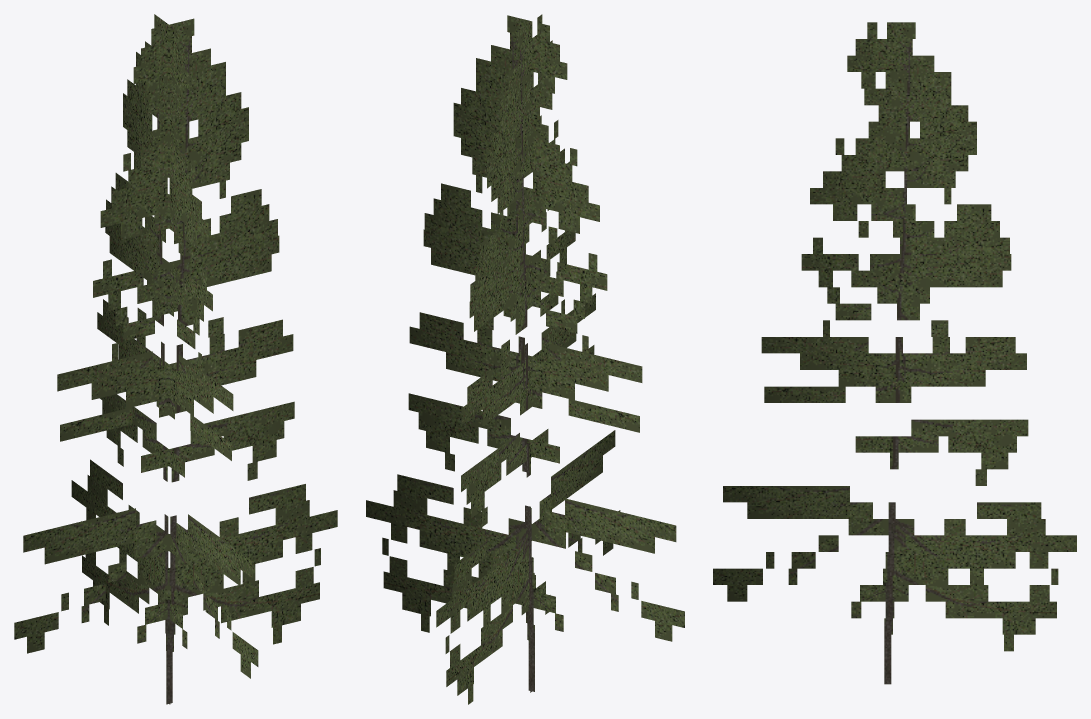
File: impostor-fir-b-far.glb
3 views of the same model, side by side, from view 1: azimuth 30°, elevation 25°; view 2: azimuth 150°, elevation 25°; view 3: azimuth 270°, elevation 25° (orthographic). The views are drawn at different scales.
Bounding box in the file's own units: 3.59 × 7.2 × 3.59.
1 material, 1 textured.
